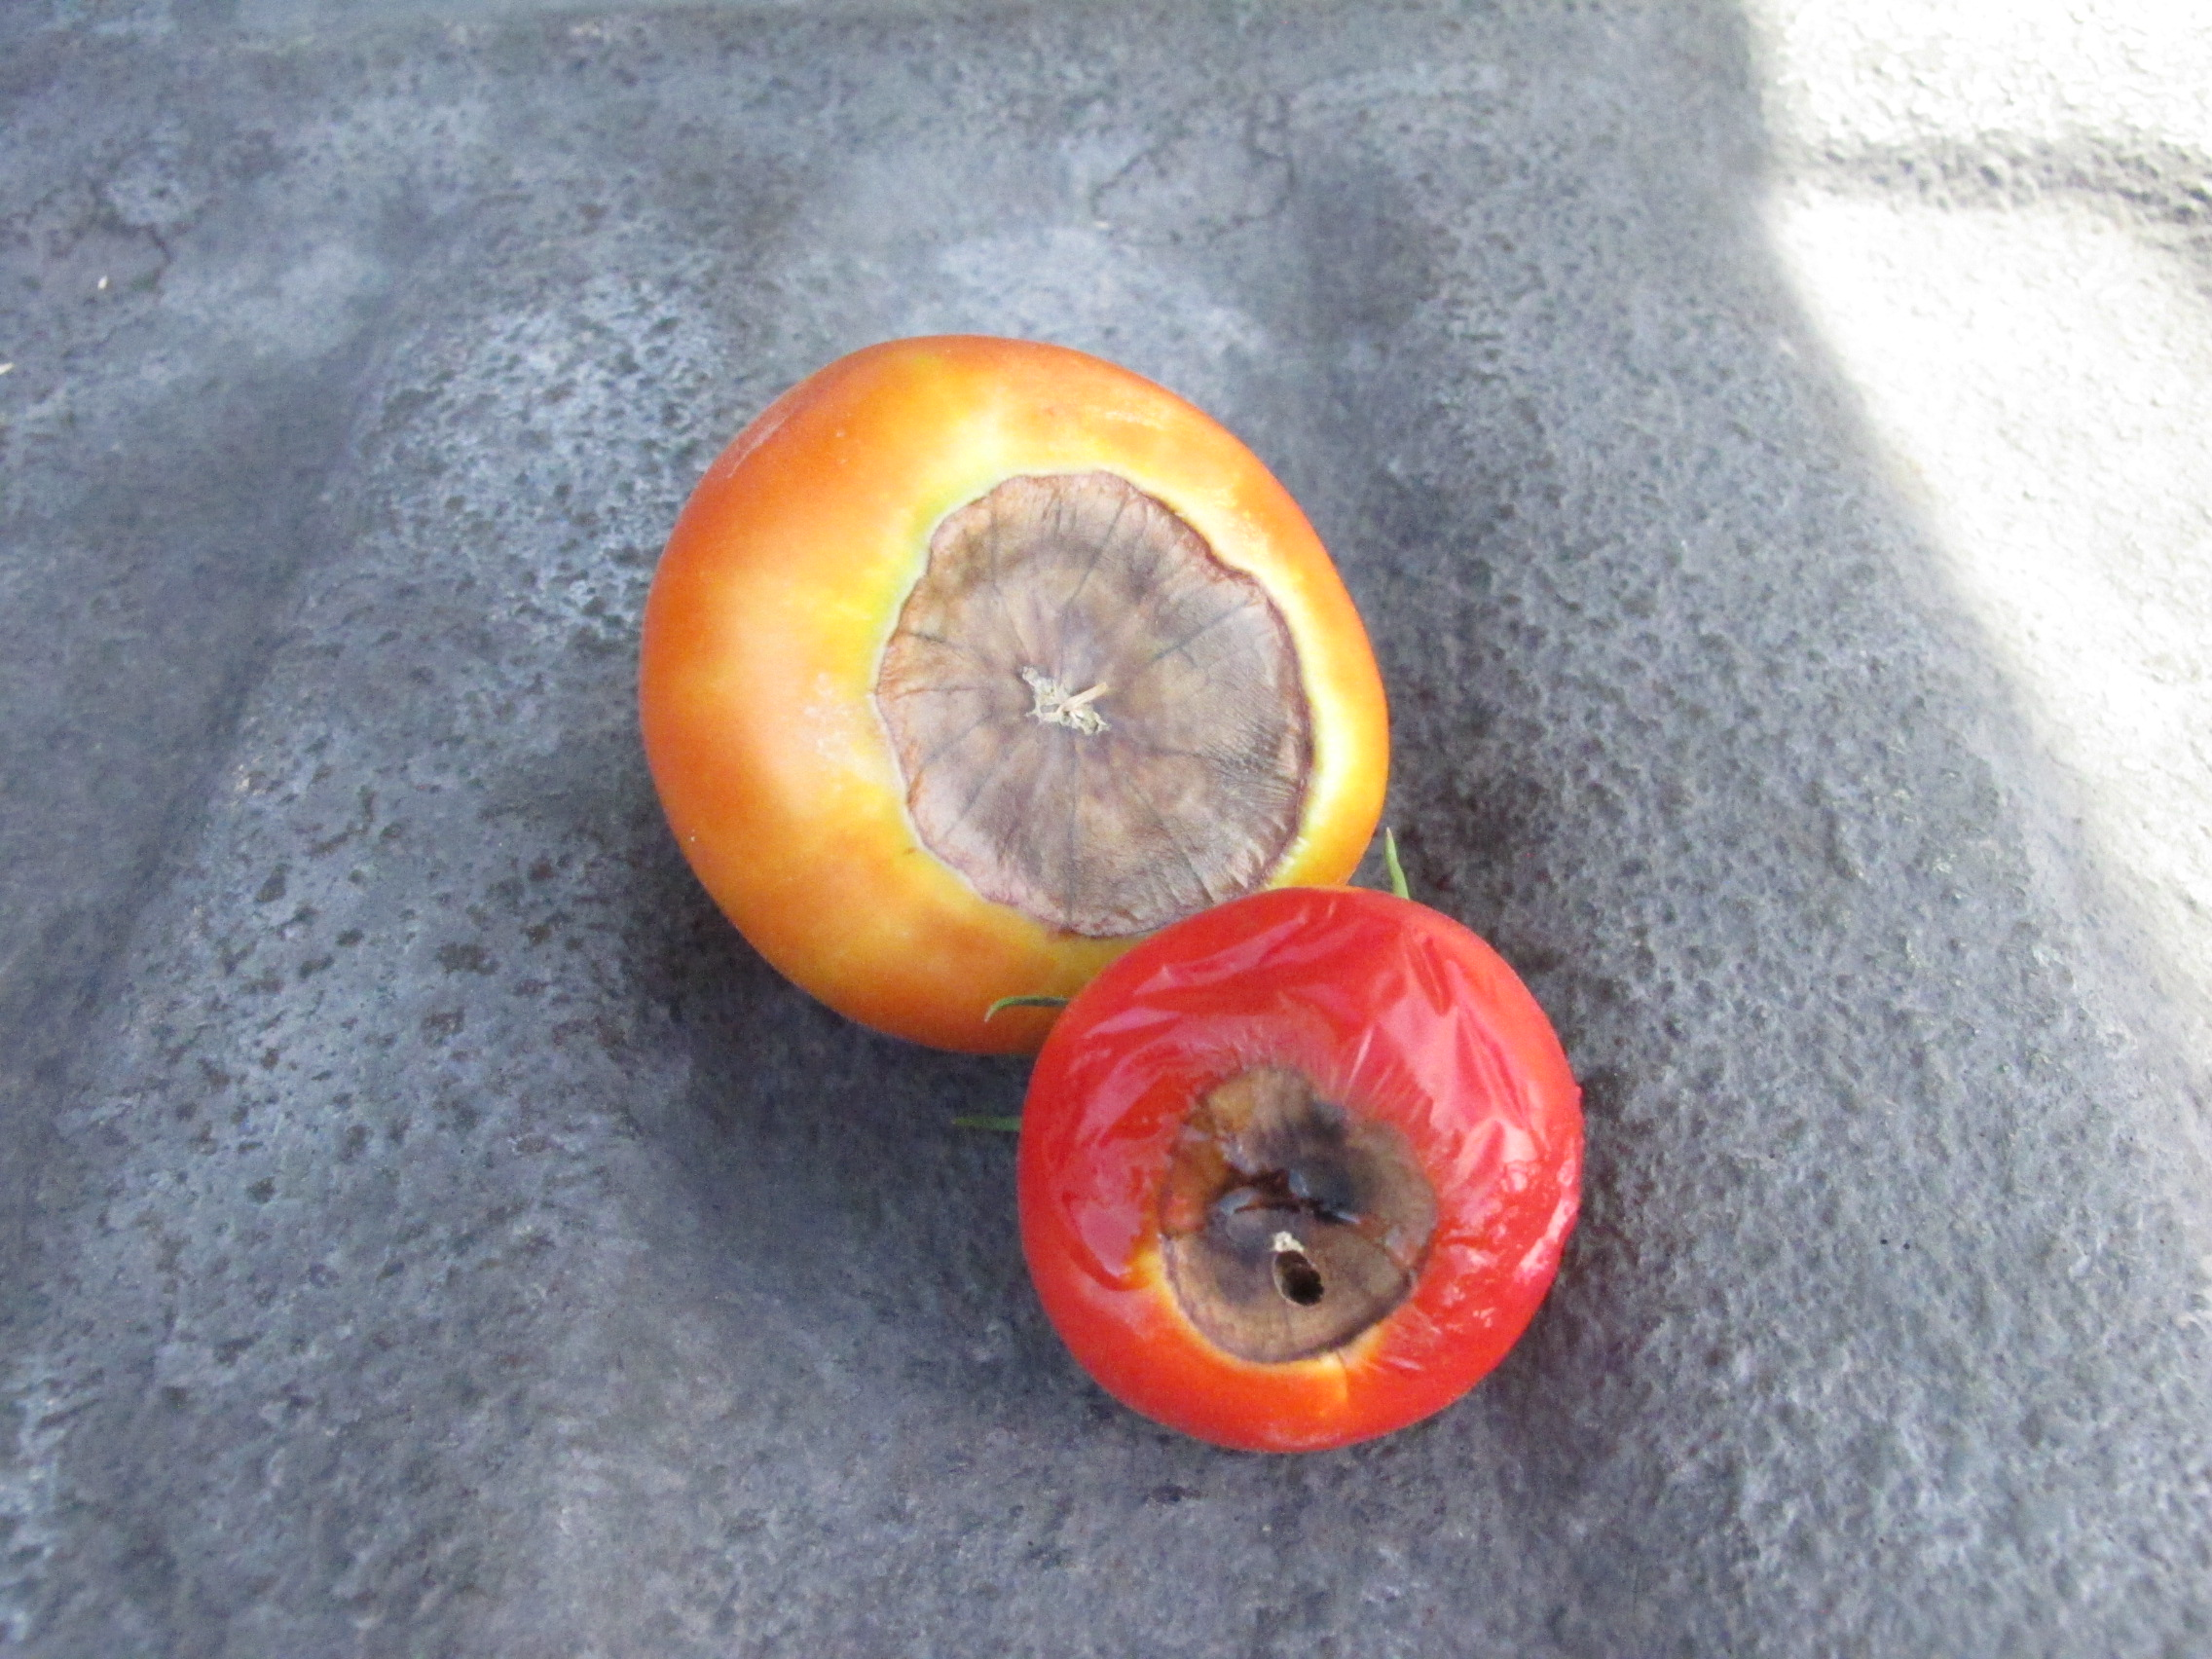blossom_rotw: (862, 432, 1327, 941), (1113, 1000, 1501, 1399)
